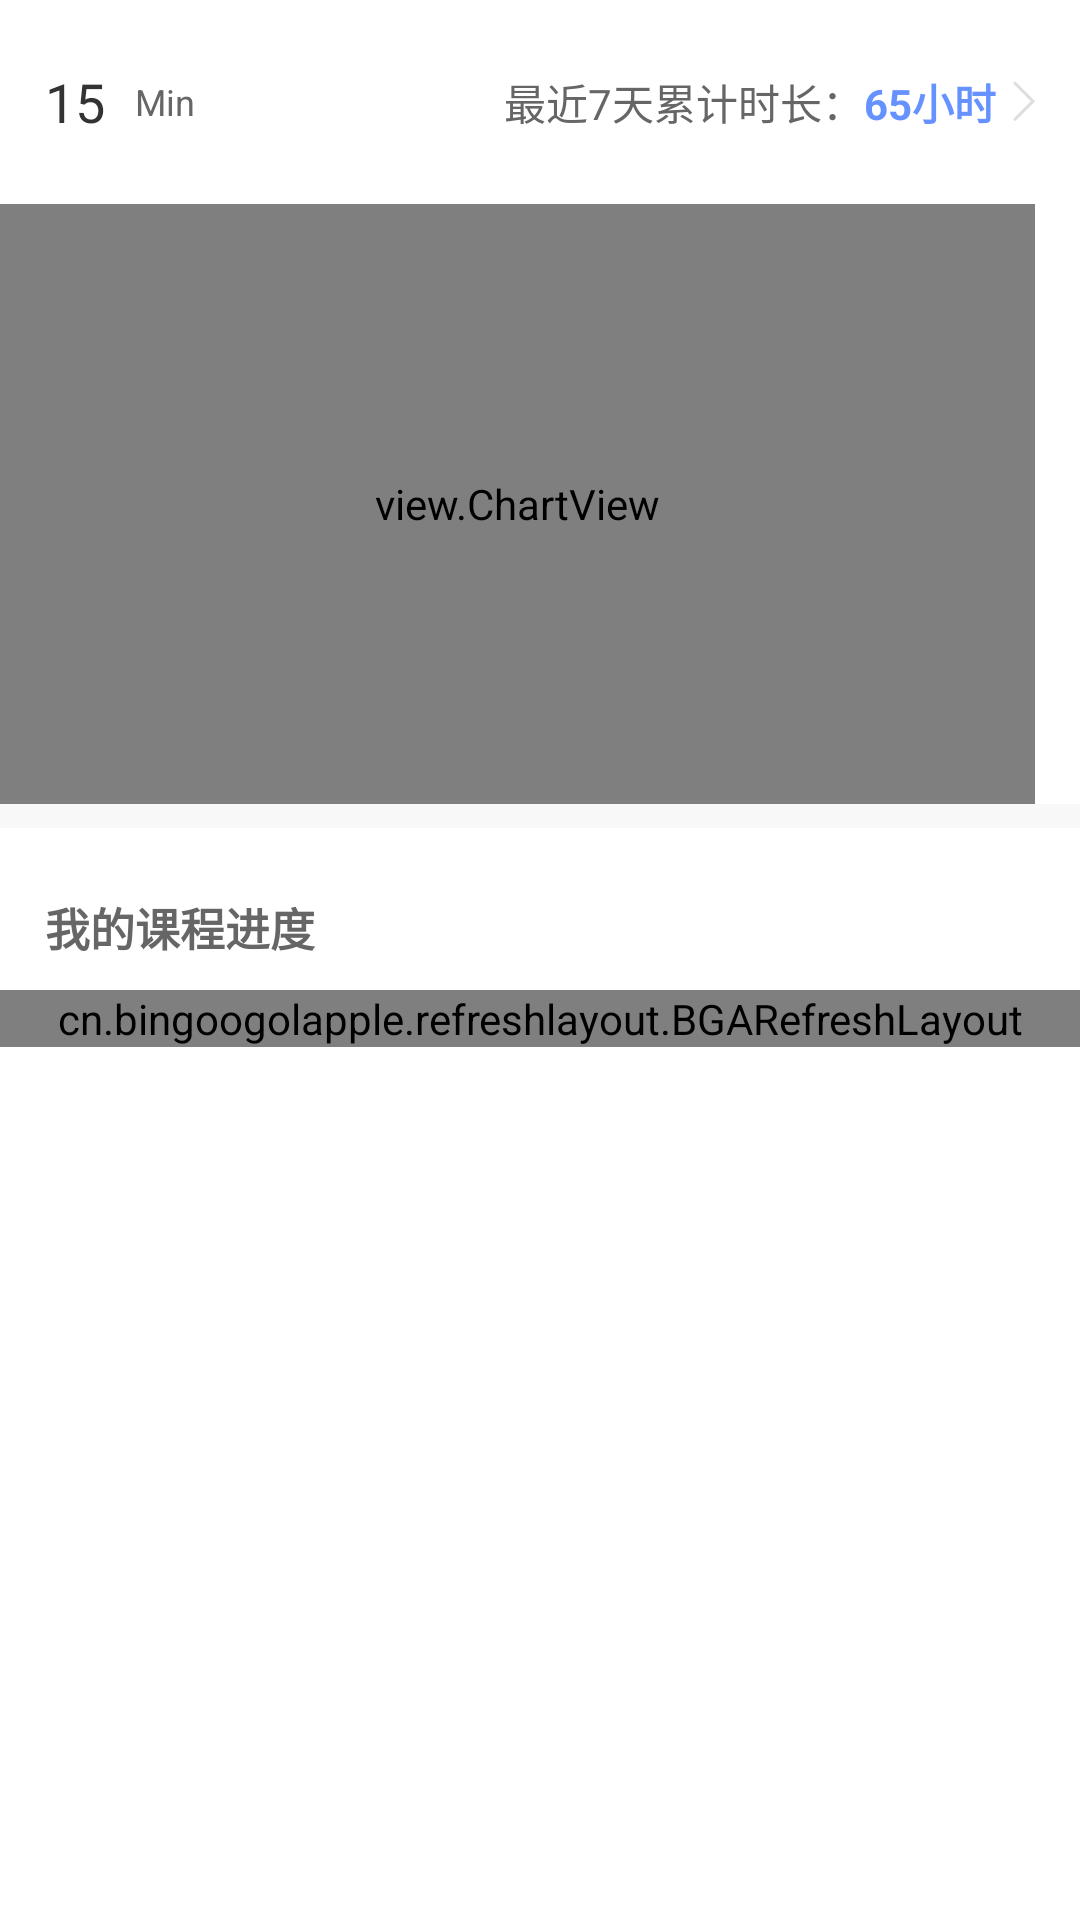

Icon bounding boxes for this 1080*1920 phone screenshot, format (x1, y1, x2, y2):
arrowmore: (1014, 82, 1035, 120)
